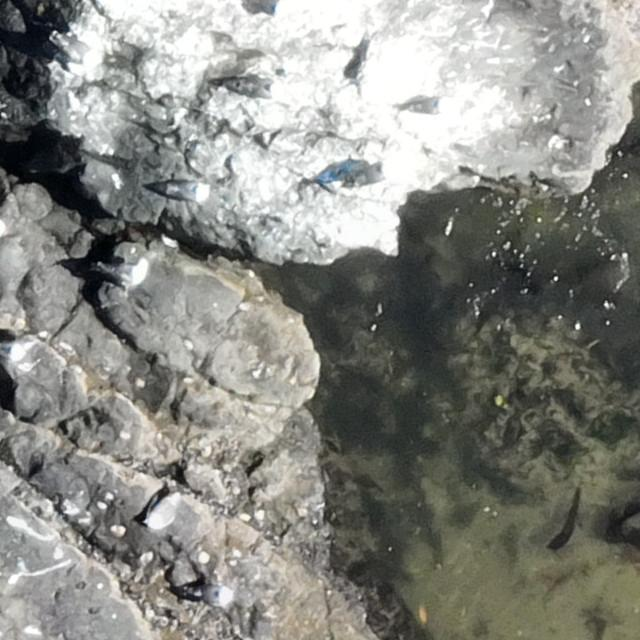umineko: (348, 159, 398, 188), (143, 492, 179, 531), (94, 258, 146, 284), (231, 77, 289, 98), (160, 180, 210, 201), (409, 94, 451, 114), (198, 585, 233, 605)
